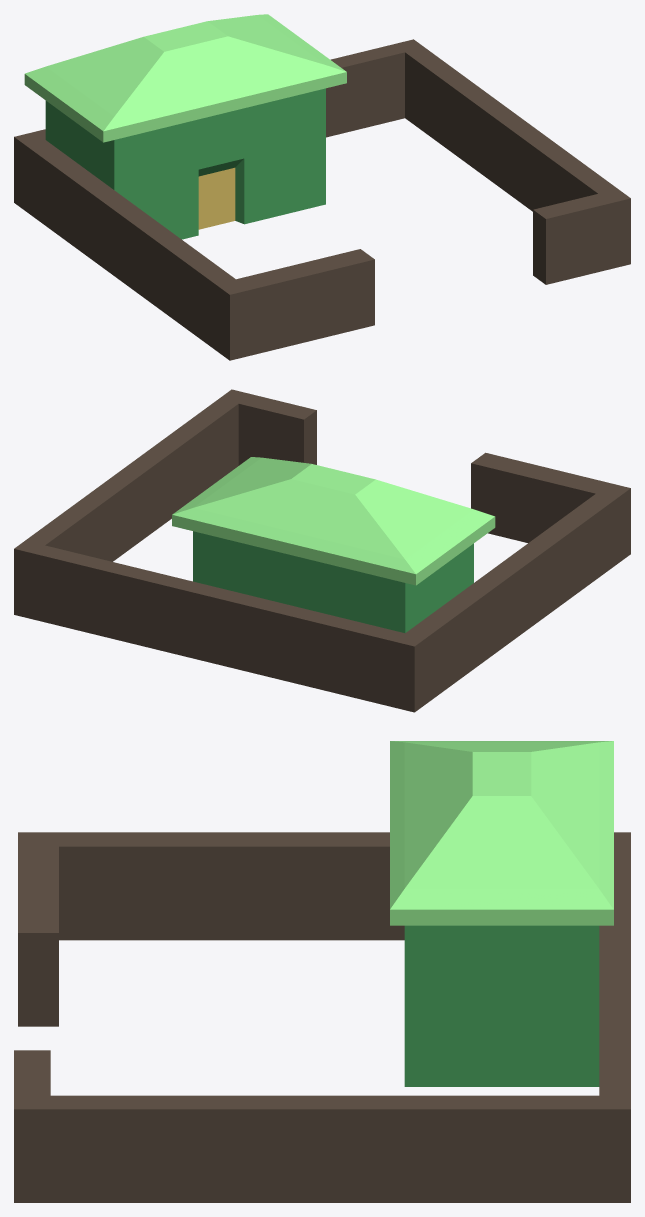
File: House.fbx
3 renders of one model, top to bottom at view 1: azimuth 30°, elevation 25°; view 2: azimuth 150°, elevation 25°; view 3: azimuth 270°, elevation 25°, orthographic. The views are drawn at different scales.
Visible parts, largest first — view 1: Walls, House; view 2: Walls, House; view 3: Walls, House.
Boxes of the visible parts, x1=… form: Walls: x1=14, y1=39, x2=630, y2=360; House: x1=24, y1=14, x2=346, y2=239; Walls: x1=14, y1=389, x2=630, y2=712; House: x1=172, y1=457, x2=495, y2=632; Walls: x1=14, y1=832, x2=630, y2=1202; House: x1=390, y1=741, x2=613, y2=1086.
Bounding box in the file's own units: 598 × 635 × 256.
